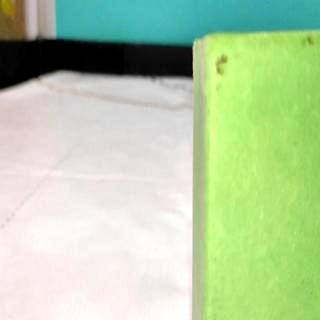greenbox: (191, 31, 320, 320)
